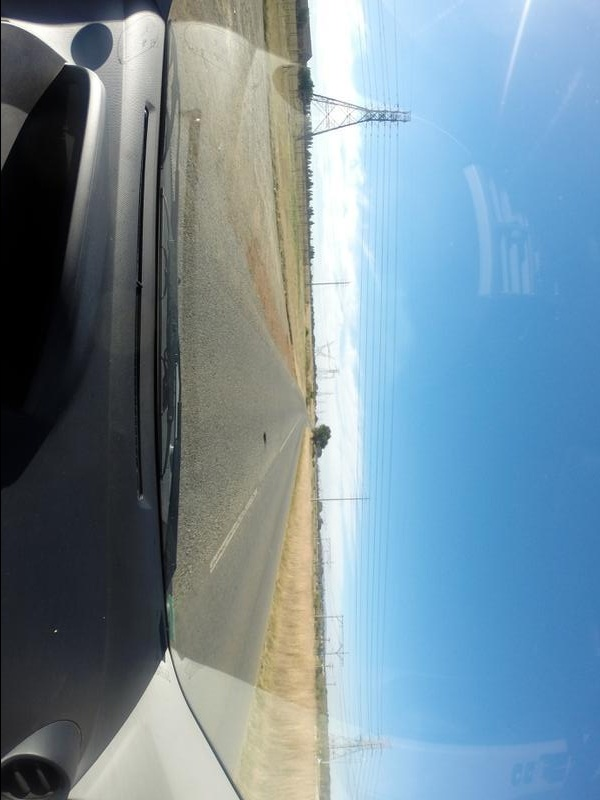pothole: (259, 430, 270, 453)
